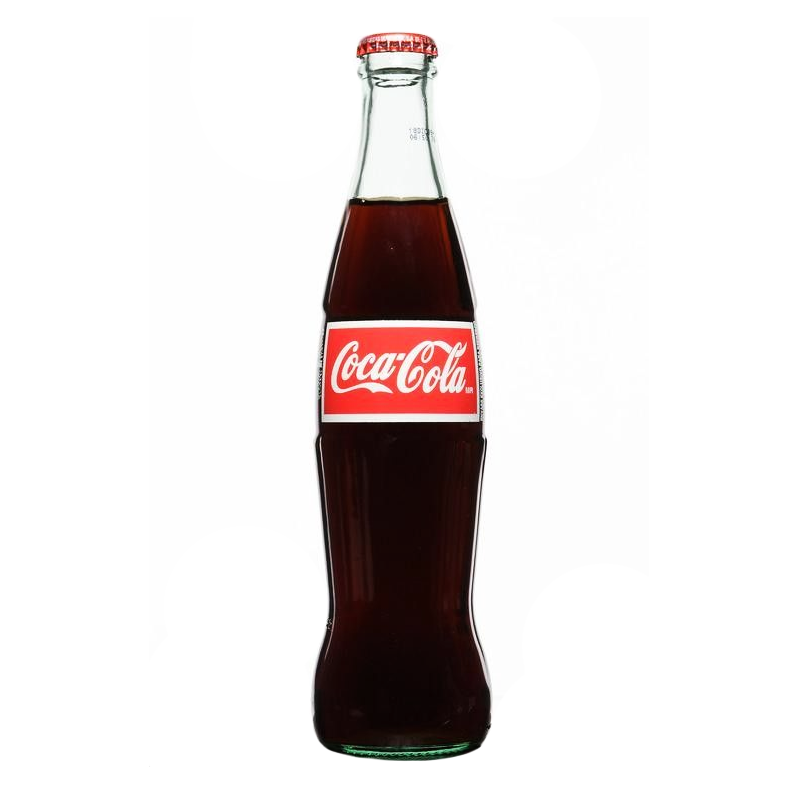Coca-Cola: (282, 24, 524, 772)
